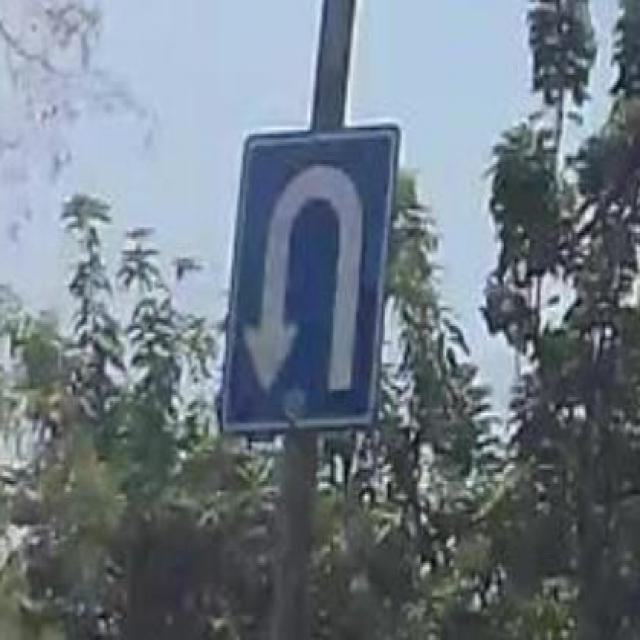U-turn: (225, 128, 389, 429)
